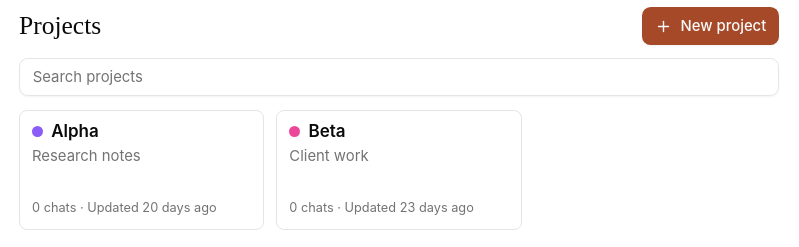
Test: ProjectsGrid › searches name and description
Type "client" into the field with test id "project-search" at {"x": 399, "y": 77}, box [19,58,779,96]
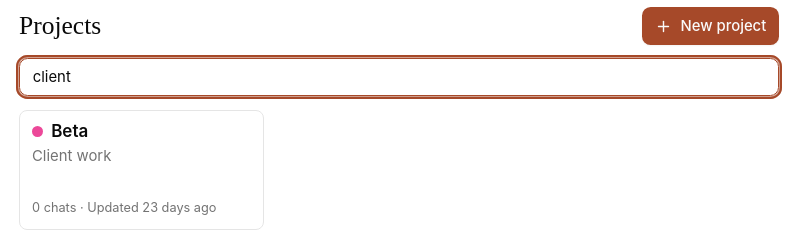
expect the button "Beta" is shown: met, box [32,123,88,140]
expect the button "Alpha" is gone: met
